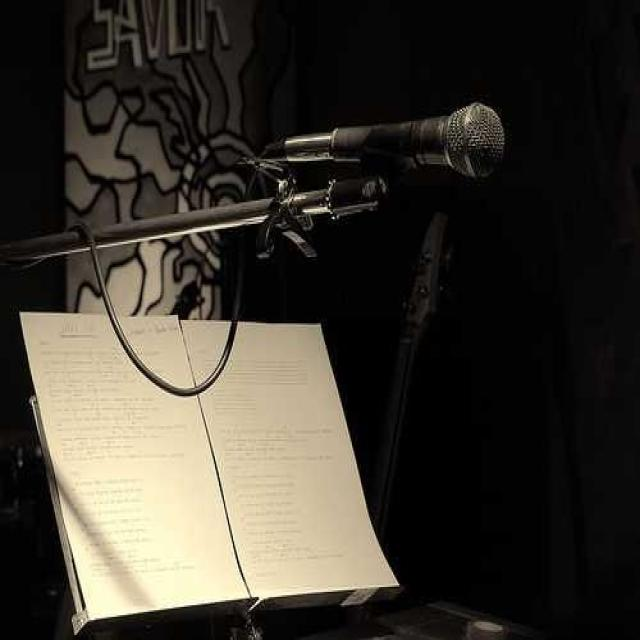microphone: (272, 104, 504, 179)
